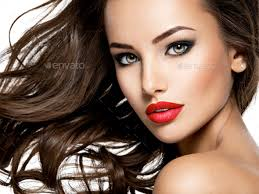white_female: (118, 18, 203, 144)
